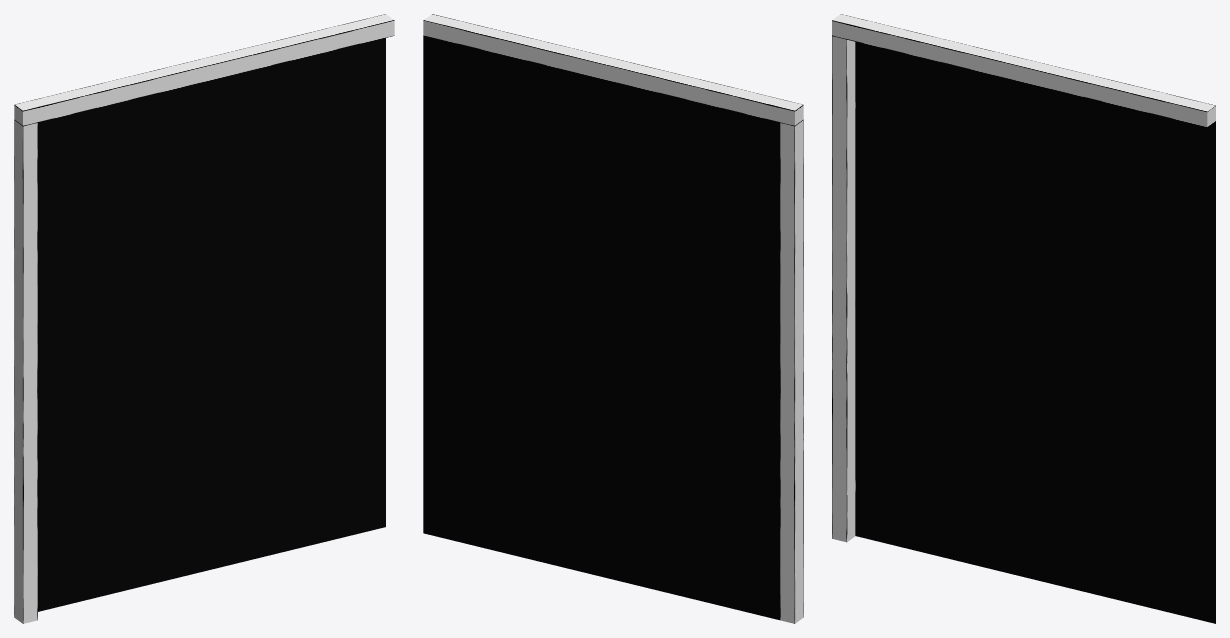
The model's file is gh_wall1.glb.
The picture shows the model from 3 angles, left to right: view 1: azimuth 30°, elevation 25°; view 2: azimuth 150°, elevation 25°; view 3: azimuth 330°, elevation 25°; orthographic projection.
Visible parts, largest first — view 1: gh_wall1; view 2: gh_wall1; view 3: gh_wall1.
Boxes of the visible parts, x1,y1,x2,y2 form: gh_wall1: (14, 14, 394, 623); gh_wall1: (423, 14, 803, 623); gh_wall1: (832, 14, 1215, 623).
Bounding box in the file's own units: 1 × 1.32 × 0.04.
5 materials, 5 textured.
